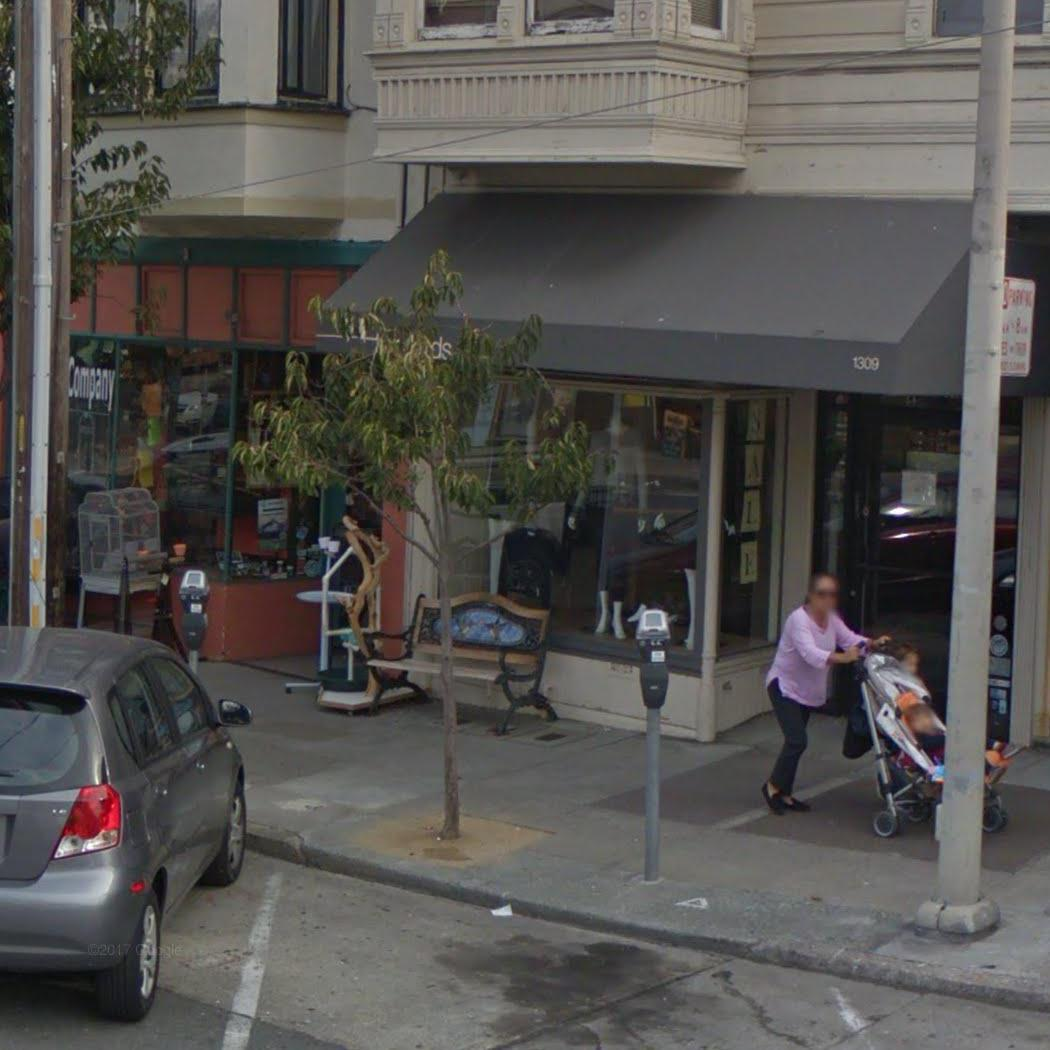No Parking: (992, 270, 1043, 390)
